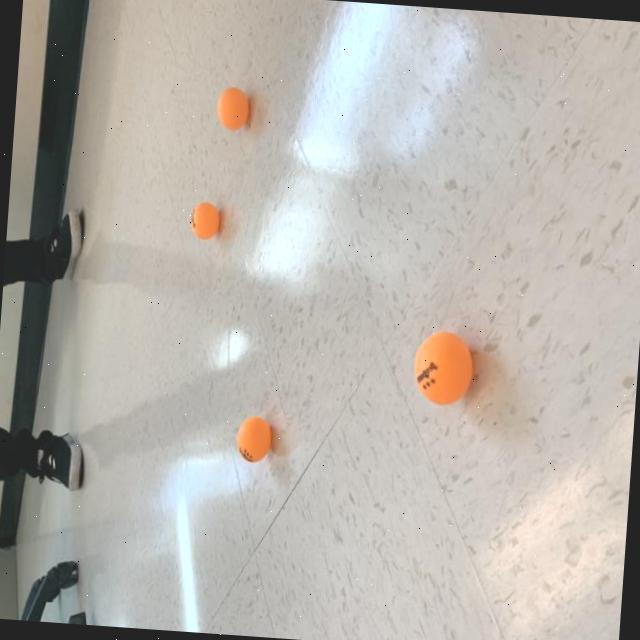ping-pong-ball: (404, 318, 479, 416), (214, 408, 298, 473), (206, 80, 252, 137), (183, 197, 220, 244)
